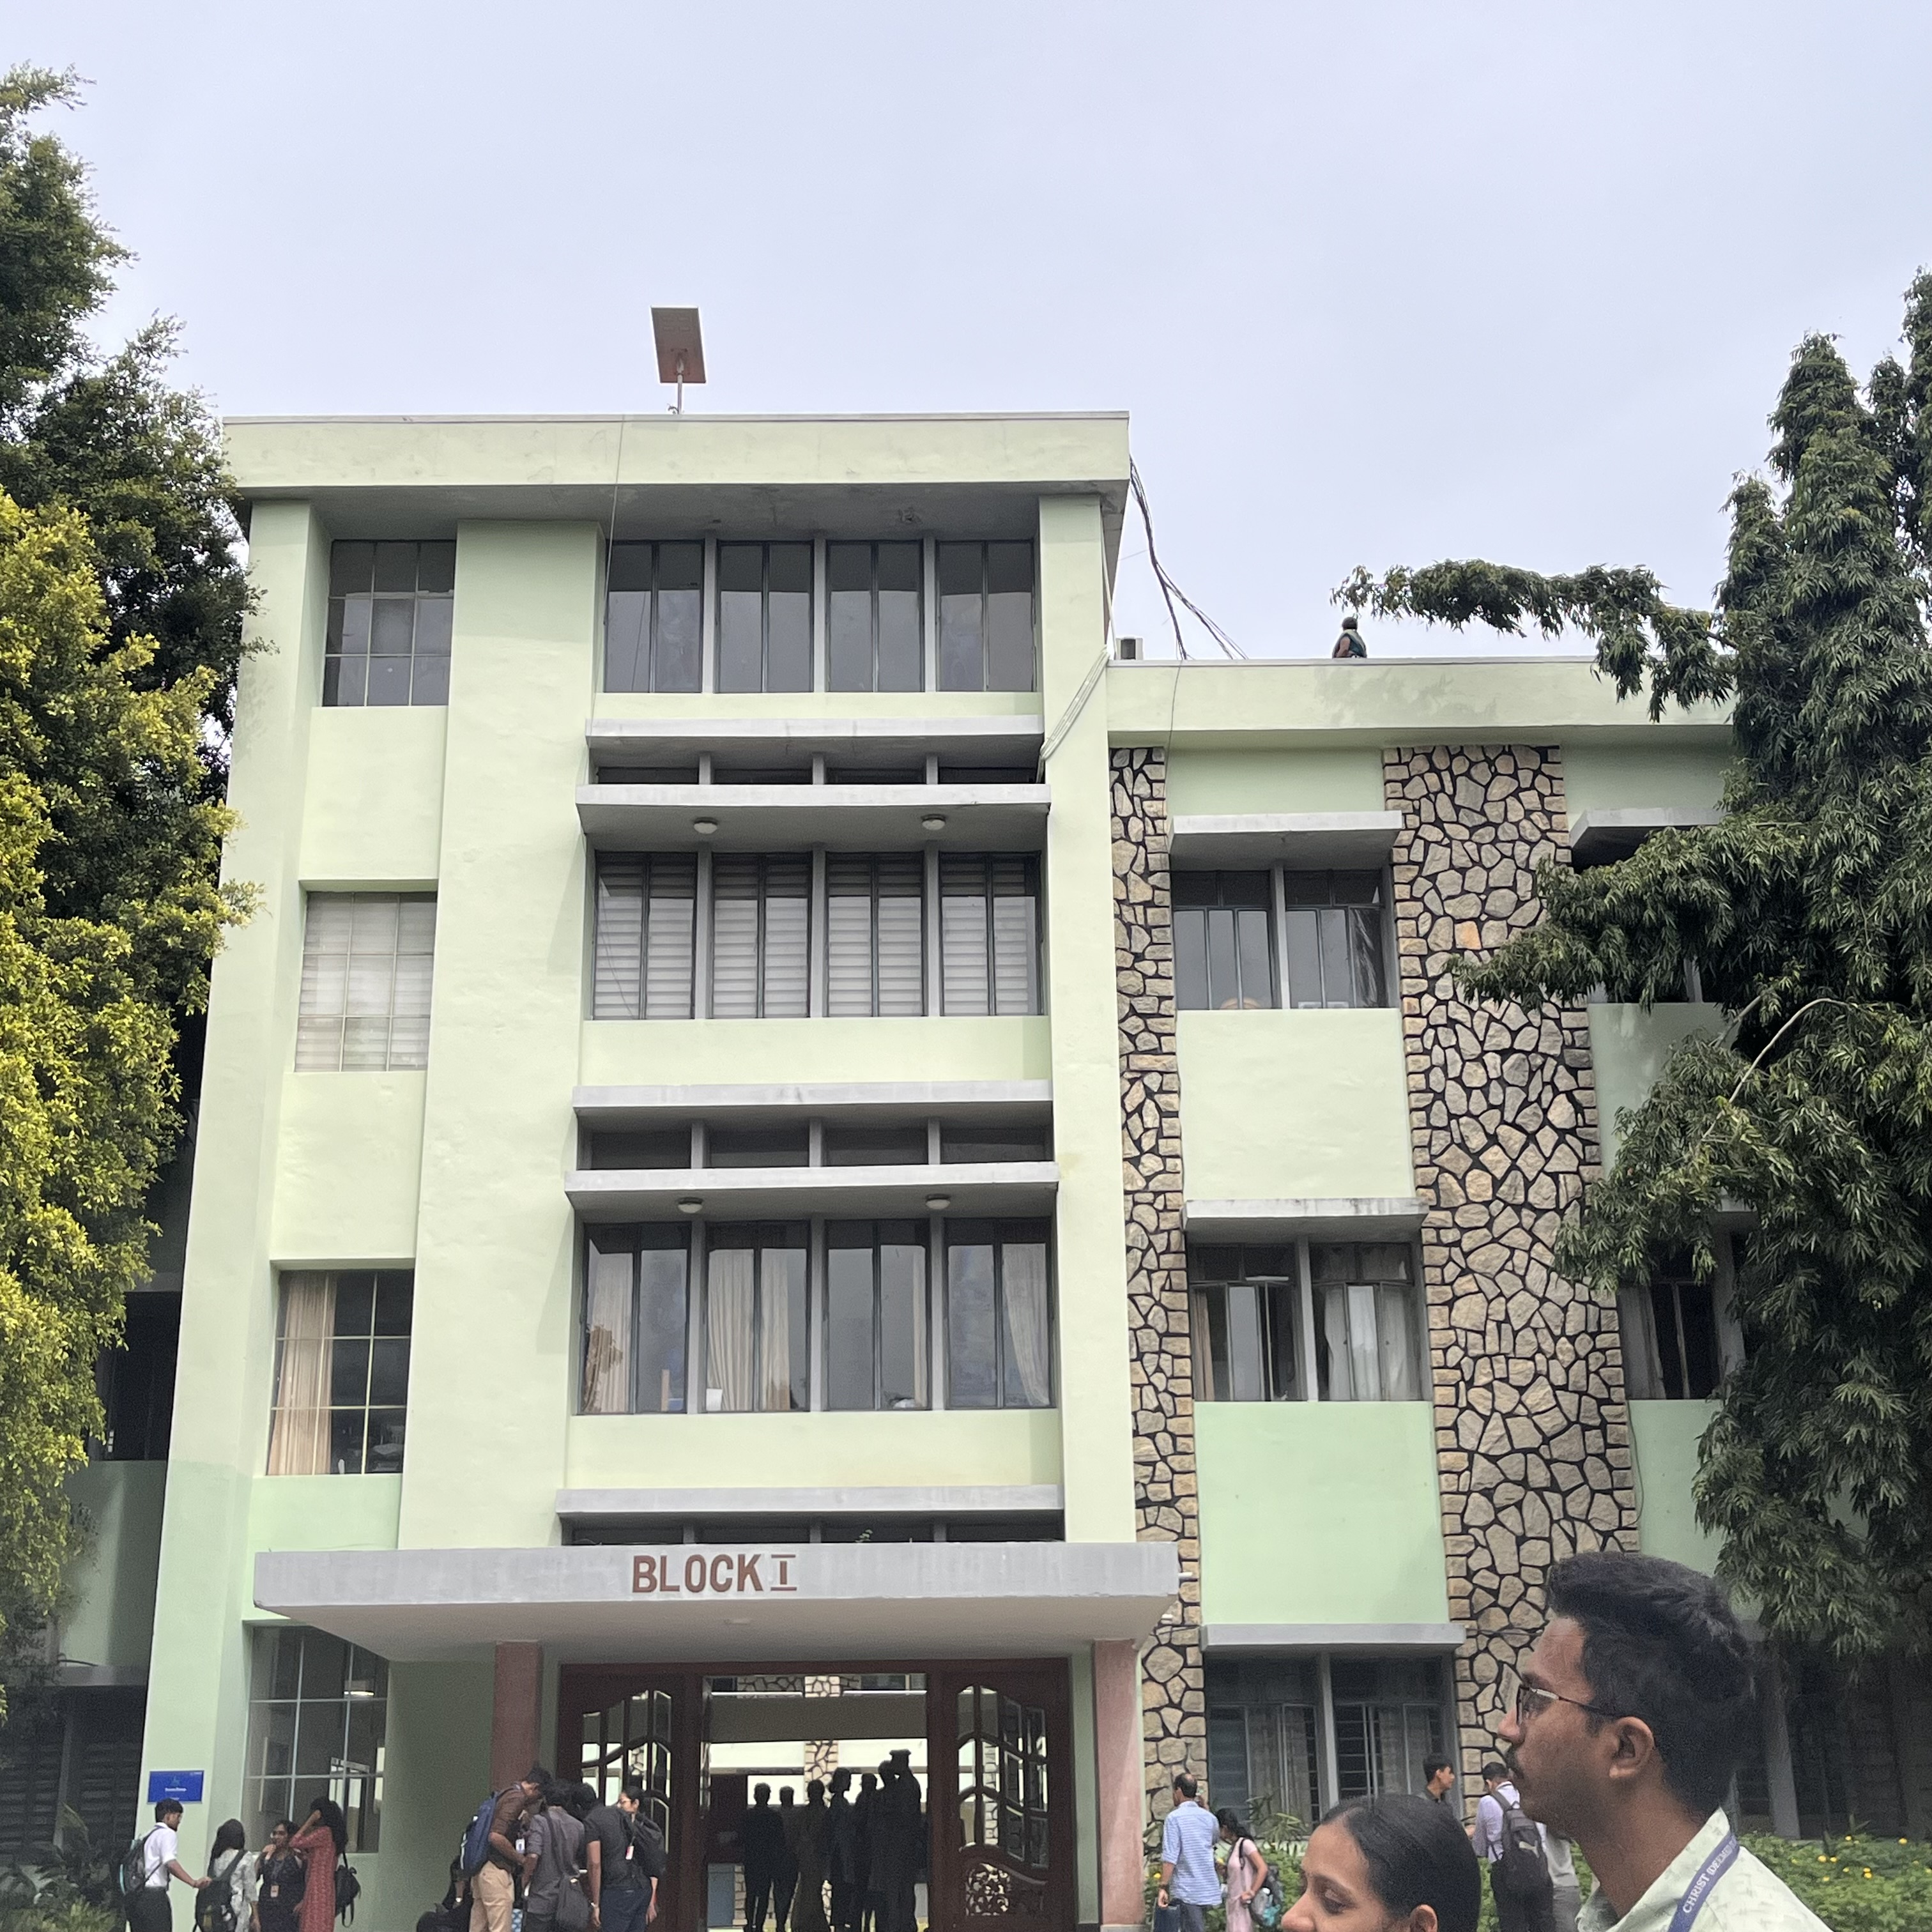Block 1: (207, 341, 1177, 1792)
